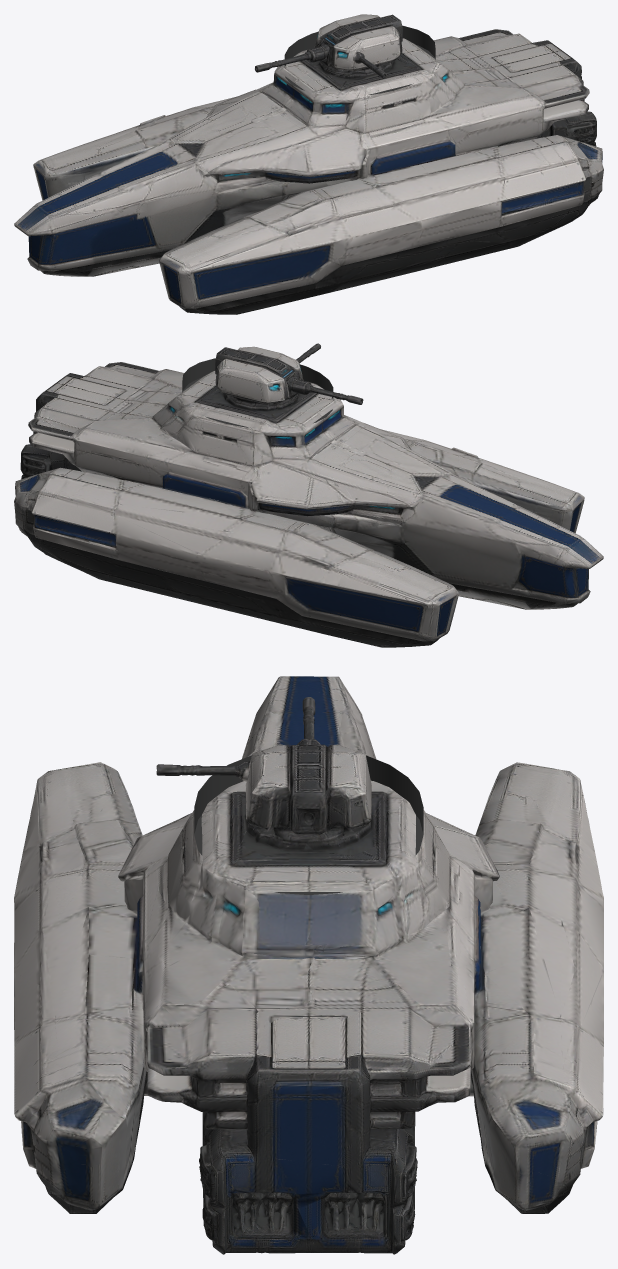
The model's file is assault-destroyer.glb.
3 views of the same model, one above another, from view 1: azimuth 30°, elevation 25°; view 2: azimuth 150°, elevation 25°; view 3: azimuth 270°, elevation 25° (orthographic). The views are drawn at different scales.
Parts seen in each view (by area): view 1: Hull, Turret; view 2: Hull, Turret; view 3: Hull, Turret.
Part boxes in pixels (<box>): Hull: <box>14,29,603,314</box>; Turret: <box>255,14,442,98</box>; Hull: <box>14,362,603,647</box>; Turret: <box>175,343,363,431</box>; Hull: <box>14,676,603,1254</box>; Turret: <box>156,697,423,892</box>.
Size of the model in its own units: 2 by 0.6737 by 1.04.
1 material, 1 textured.
